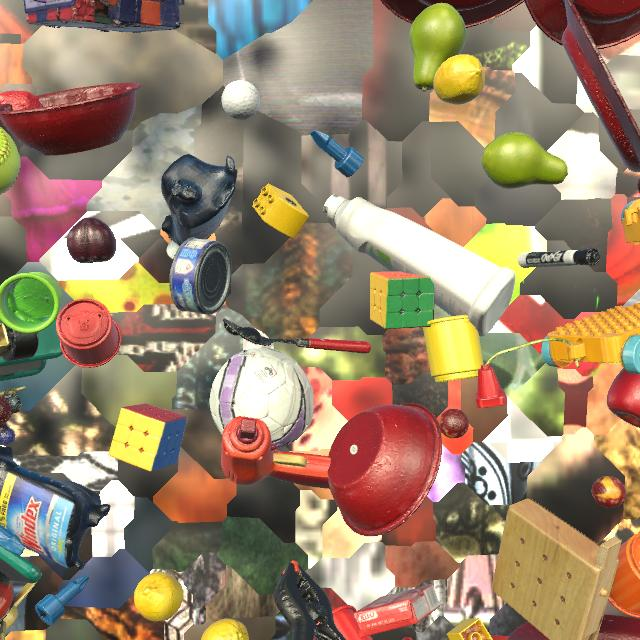ycb_007_tuna_fish_can: (169, 238, 232, 315)
ycb_009_gelatin_box: (354, 584, 440, 638)
ycb_012_strawberry: (0, 91, 43, 111)
ycb_013_apple: (607, 368, 640, 428)
ycb_014_lemon: (433, 54, 485, 104), (134, 572, 184, 621), (201, 618, 249, 640)
ycb_016_pear: (410, 3, 467, 92), (481, 132, 568, 189)
ycb_018_plum: (67, 217, 116, 263)
